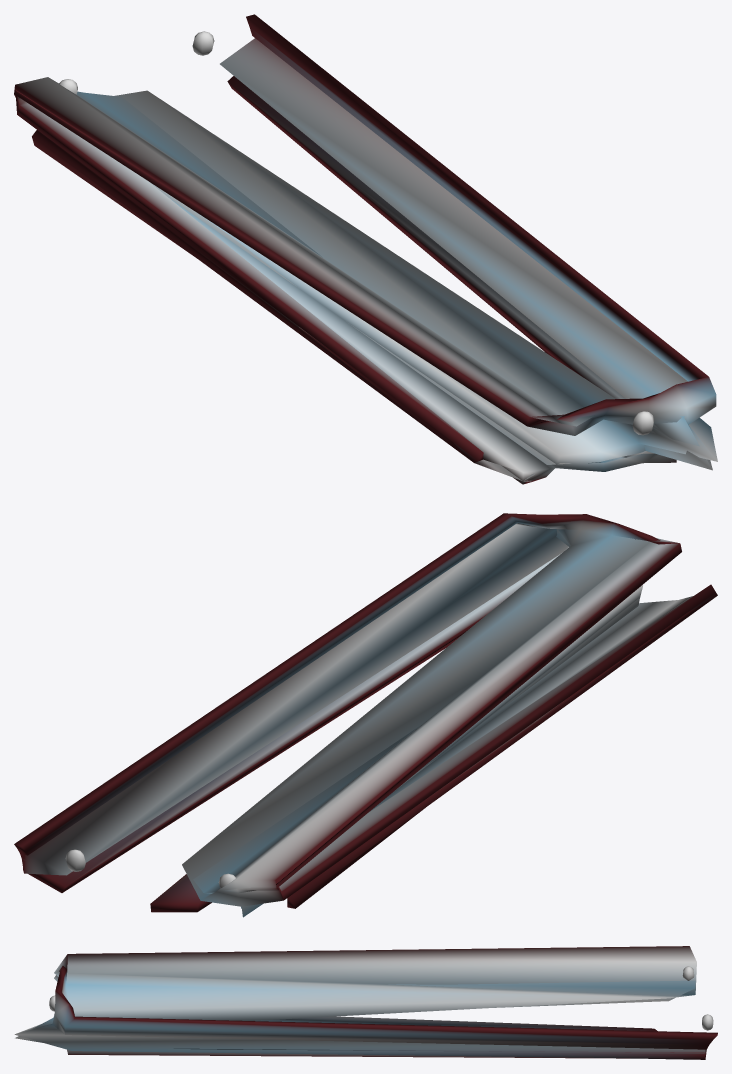
File: grill_diamond_male_lo.glb
The picture shows the model from 3 angles, top to bottom: view 1: azimuth 30°, elevation 25°; view 2: azimuth 150°, elevation 25°; view 3: azimuth 270°, elevation 25°; orthographic projection. The views are drawn at different scales.
Visible parts, largest first — view 1: grill_diamond_male_lo; view 2: grill_diamond_male_lo; view 3: grill_diamond_male_lo.
Boxes of the visible parts, x1,y1,x2,y2 form: grill_diamond_male_lo: (14,14,717,484); grill_diamond_male_lo: (14,513,717,917); grill_diamond_male_lo: (14,946,717,1059).
Bounding box in the file's own units: 0.1239 × 0.0392 × 0.4265.
